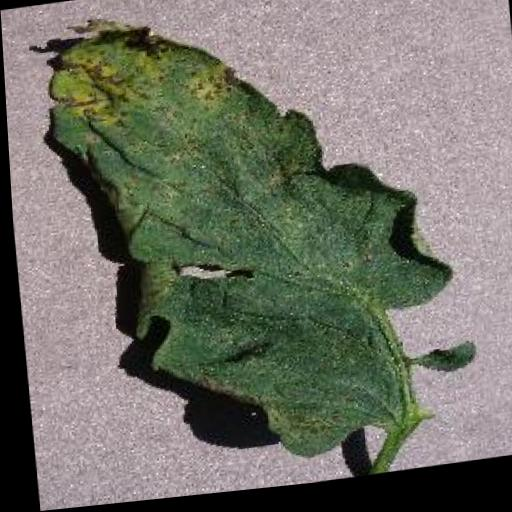Septoria: (37, 0, 477, 489)
